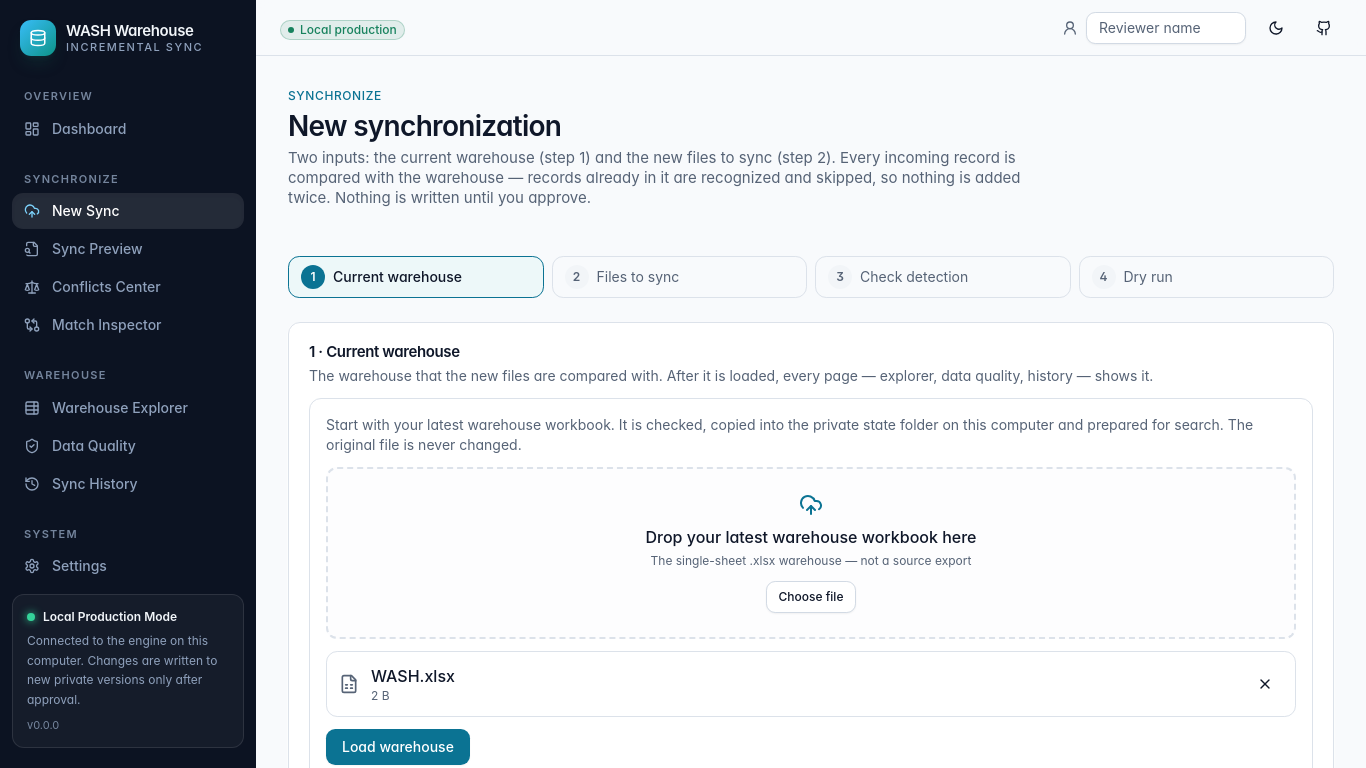
Test: loading the current warehouse (New Sync step 1) › asks for the warehouse first, loads it and refreshes every view (local mode)
Earlier steps of the test are not shown.
Click the button "Load warehouse". click: (398, 747)
box: [326, 729, 470, 765]
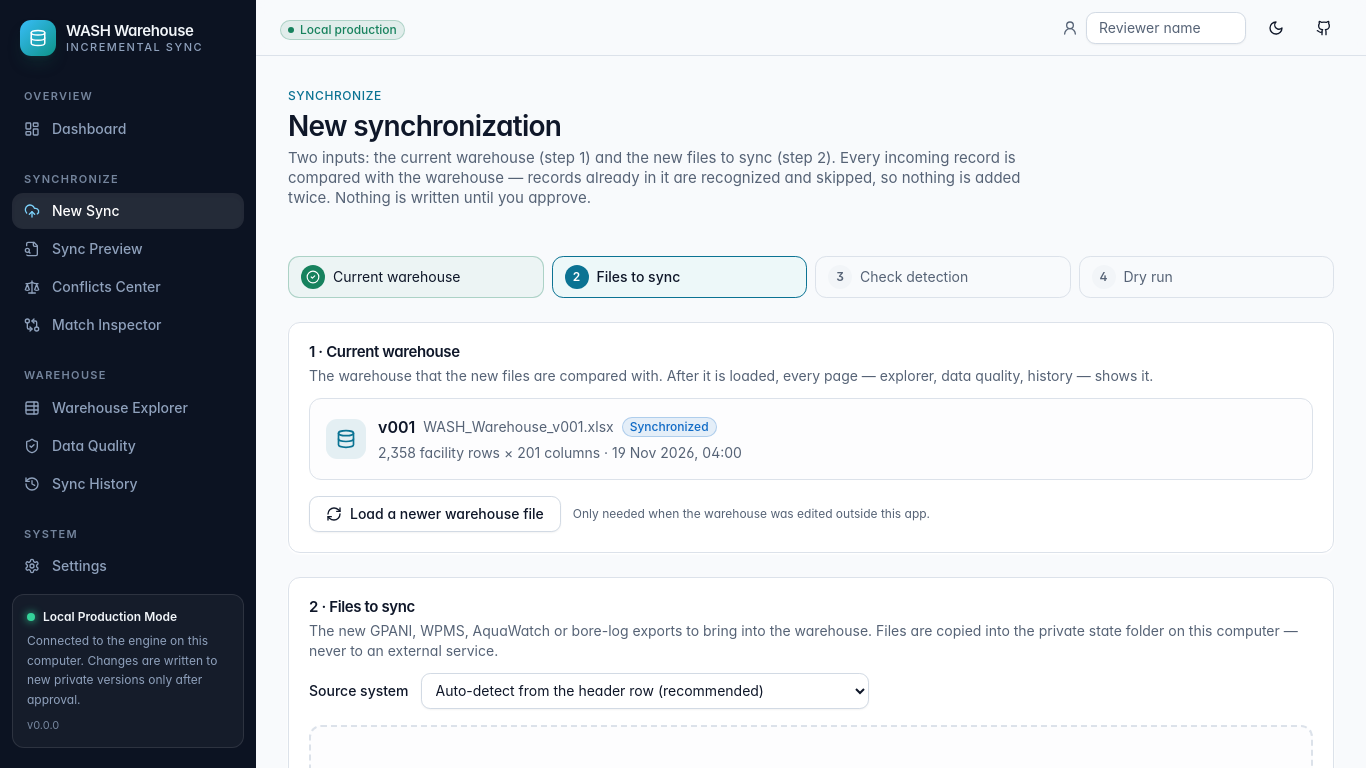
Expected: the text "v001" is shown, [378, 415, 415, 439]
